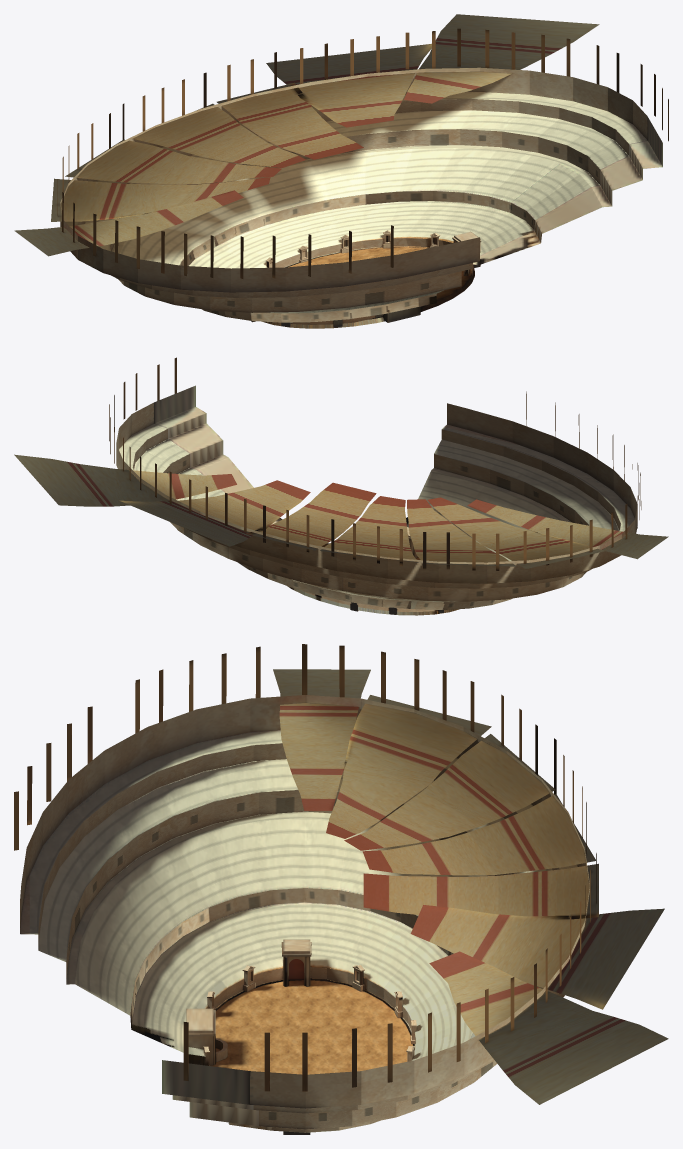
The model's file is colera1baked.glb.
3 renders of one model, top to bottom at view 1: azimuth 30°, elevation 25°; view 2: azimuth 150°, elevation 25°; view 3: azimuth 270°, elevation 25°, orthographic. The views are drawn at different scales.
Visible parts, largest first — view 1: Plane.005; view 2: Plane.005; view 3: Plane.005.
Boxes of the visible parts, <box> form: Plane.005: <box>14,14,668,328</box>; Plane.005: <box>14,357,668,615</box>; Plane.005: <box>14,644,668,1134</box>.
Bounding box in the file's own units: 792 × 187 × 496.
1 material, 1 textured.
